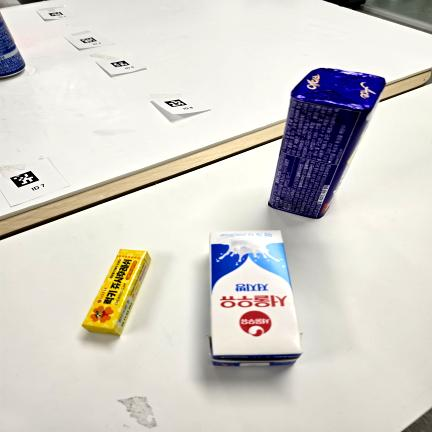cracker_ace: (269, 68, 385, 219)
gum_yellow: (83, 249, 151, 335)
milk_blue: (209, 230, 302, 366)
